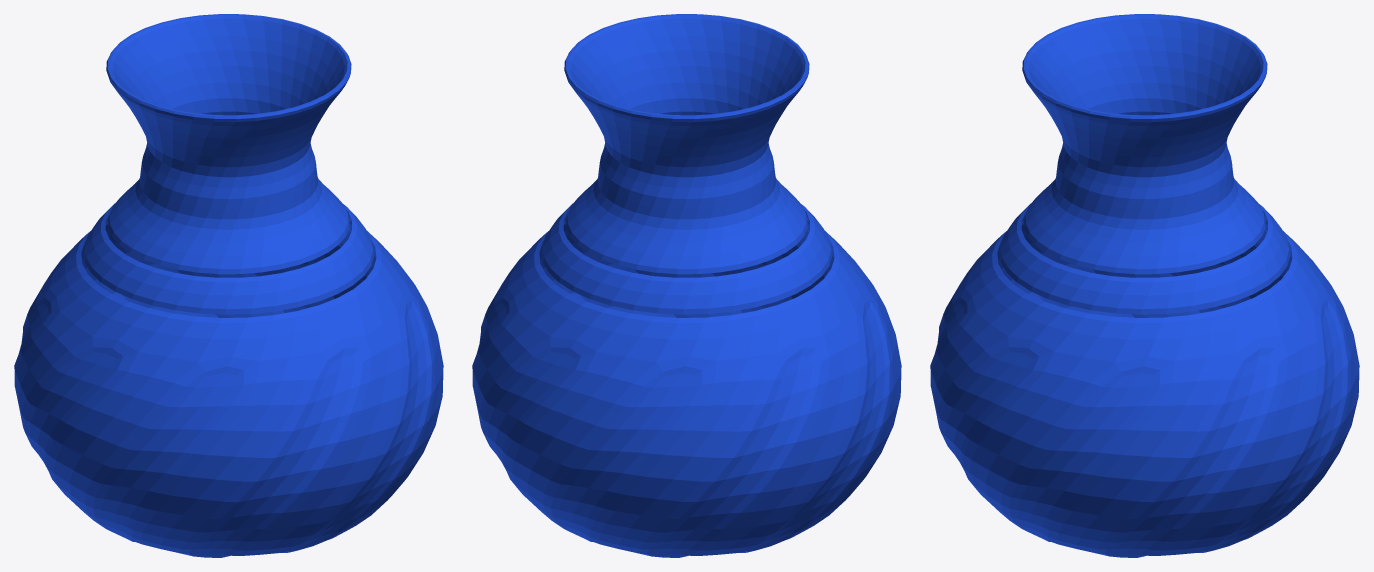
Rendered from vase.fbx.
The picture shows the model from 3 angles, left to right: view 1: azimuth 30°, elevation 25°; view 2: azimuth 150°, elevation 25°; view 3: azimuth 270°, elevation 25°; orthographic projection.
Visible parts, largest first — view 1: Vase; view 2: Vase; view 3: Vase.
Boxes of the visible parts, x1,y1,x2,y2 form: Vase: [14, 14, 443, 557]; Vase: [472, 14, 901, 557]; Vase: [930, 14, 1359, 557].
Bounding box in the file's own units: 486 × 554 × 489.
